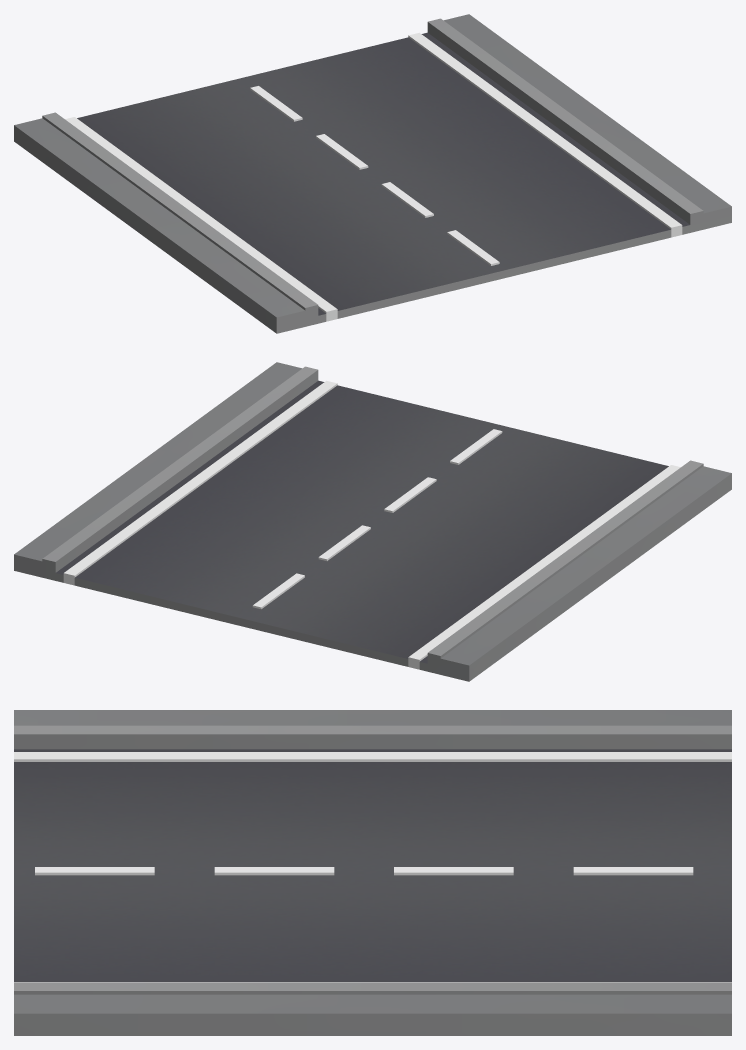
File: road_I_1.glb
3 renders of one model, top to bottom at view 1: azimuth 30°, elevation 25°; view 2: azimuth 150°, elevation 25°; view 3: azimuth 270°, elevation 25°, orthographic. The views are drawn at different scales.
Visible parts, largest first — view 1: road_I_1; view 2: road_I_1; view 3: road_I_1.
Part boxes in pixels (bbox=[...]): road_I_1: bbox=[14, 14, 731, 333]; road_I_1: bbox=[14, 362, 731, 681]; road_I_1: bbox=[14, 710, 731, 1035].
Bounding box in the file's own units: 12 × 0.4753 × 12.
1 material, 1 textured.
